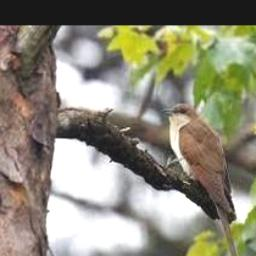Cuckoo: (162, 103, 240, 256)
